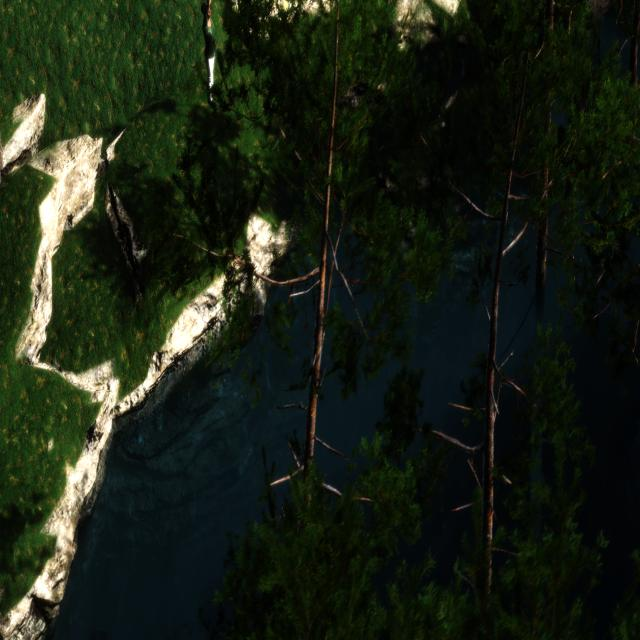Human: (200, 0, 217, 116)
